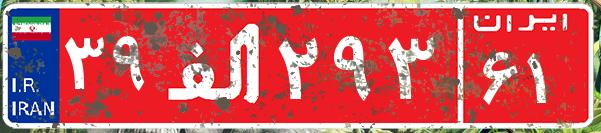1: (525, 38, 570, 115)
2: (273, 28, 330, 110)
3: (385, 28, 445, 110), (57, 26, 110, 107)
6: (475, 38, 525, 113)
9: (330, 28, 385, 110), (110, 28, 158, 105)
الف: (158, 15, 273, 115)
